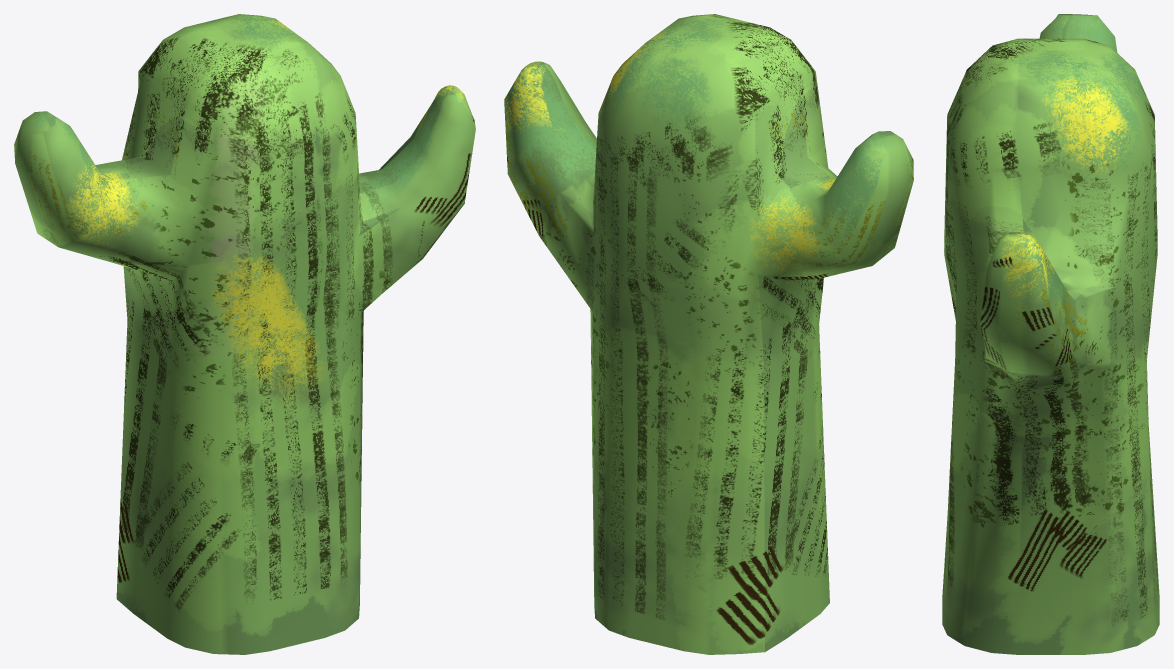
Rendered from cactus.glb.
3 renders of one model, left to right at view 1: azimuth 30°, elevation 25°; view 2: azimuth 150°, elevation 25°; view 3: azimuth 270°, elevation 25°, orthographic. The views are drawn at different scales.
Parts seen in each view (by area): view 1: Roundcube; view 2: Roundcube; view 3: Roundcube.
Boxes of the visible parts, x1,y1,x2,y2 form: Roundcube: (14,14,475,654); Roundcube: (504,14,913,654); Roundcube: (942,14,1159,654).
Size of the model in its own units: 2.36 by 3.06 by 1.08.
Materials: 1 (1 with a texture image).
